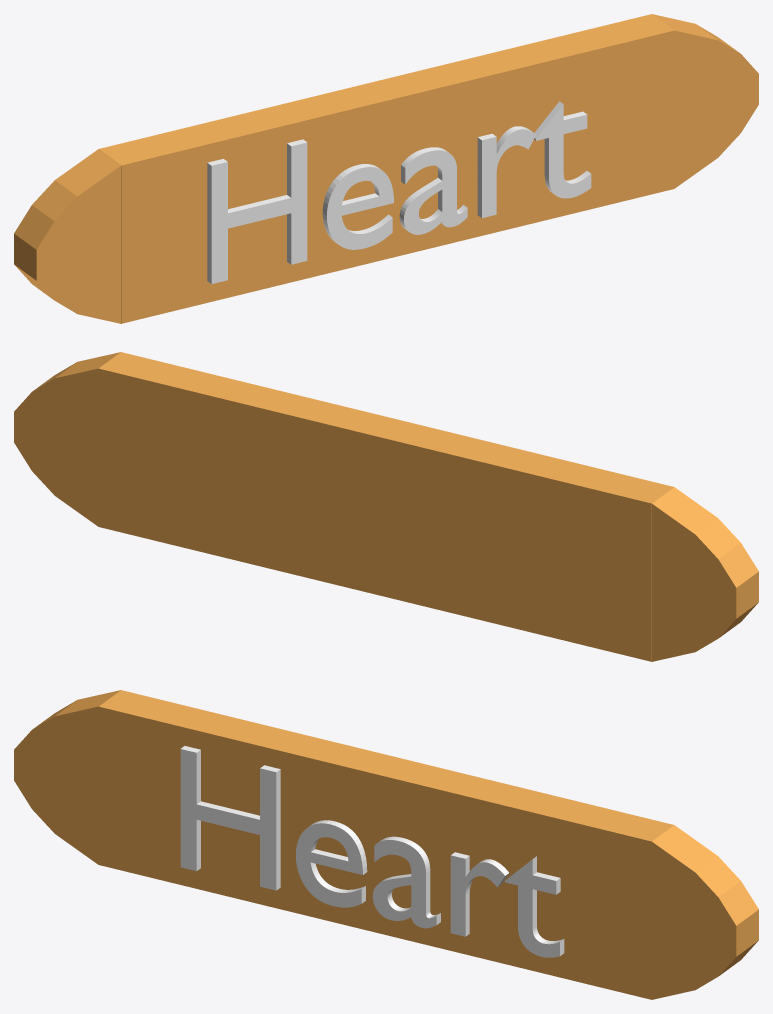
Rendered from txtHeart.fbx.
The picture shows the model from 3 angles, top to bottom: view 1: azimuth 30°, elevation 25°; view 2: azimuth 150°, elevation 25°; view 3: azimuth 330°, elevation 25°; orthographic projection.
Visible parts, largest first — view 1: TagContainer.023, Text.030; view 2: TagContainer.023; view 3: TagContainer.023, Text.030.
Part boxes in pixels (<box>): TagContainer.023: <box>14,14,758,323</box>; Text.030: <box>207,101,591,284</box>; TagContainer.023: <box>14,352,758,661</box>; TagContainer.023: <box>14,690,758,999</box>; Text.030: <box>180,746,564,957</box>.
Bounding box in the file's own units: 197 × 41.3 × 12.69.
